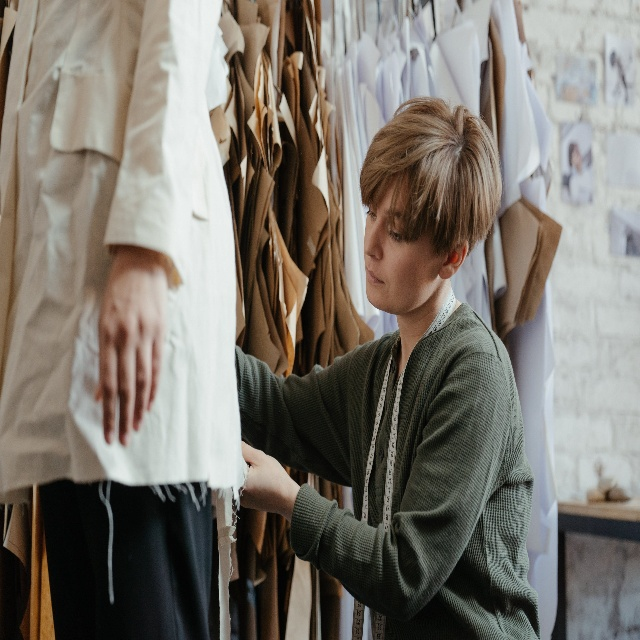Sin_guantes: (96, 252, 169, 444), (241, 439, 291, 516)
